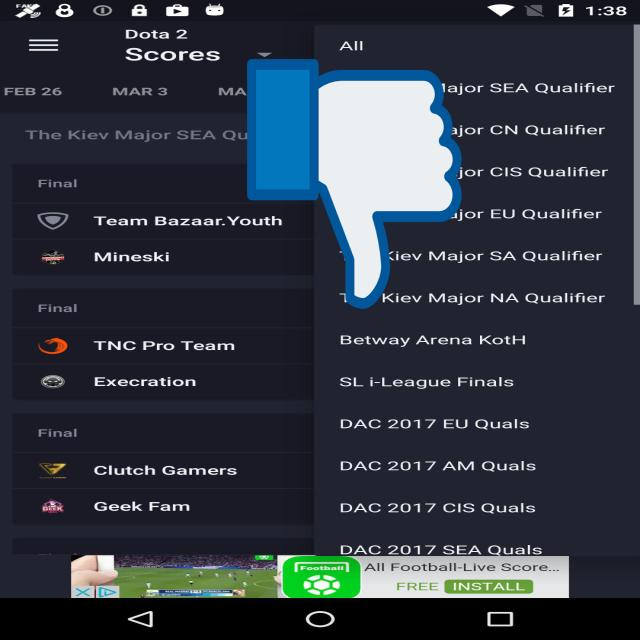obstruction: (247, 54, 462, 314)
